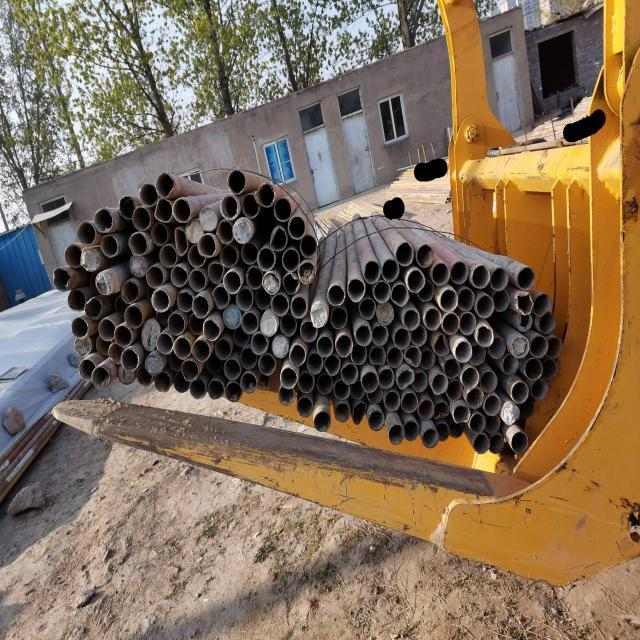pipe: (141, 318, 161, 352), (50, 268, 70, 296), (93, 207, 114, 232), (222, 268, 242, 294), (256, 182, 276, 208), (156, 172, 176, 198), (76, 220, 96, 245), (256, 246, 276, 271), (431, 262, 451, 287), (232, 217, 251, 243), (439, 286, 458, 312), (112, 325, 134, 347), (70, 318, 90, 342), (80, 247, 100, 271), (95, 272, 115, 296), (128, 232, 148, 256), (286, 215, 306, 239), (198, 208, 218, 232), (172, 198, 192, 222), (138, 182, 158, 206), (516, 266, 536, 290), (185, 219, 204, 244), (84, 296, 102, 322), (270, 226, 288, 252), (154, 198, 172, 224), (406, 267, 424, 293), (457, 286, 475, 312), (220, 195, 240, 218), (460, 367, 480, 390), (524, 358, 544, 381), (472, 264, 491, 288), (132, 206, 150, 231), (288, 343, 306, 368), (236, 286, 253, 312), (246, 264, 263, 290), (500, 403, 520, 425), (478, 370, 498, 392), (510, 336, 530, 358), (239, 347, 258, 370), (100, 235, 119, 258), (220, 245, 239, 268), (174, 336, 192, 360), (68, 288, 86, 312), (124, 305, 142, 329), (250, 330, 268, 354), (272, 335, 290, 359), (260, 314, 278, 338), (212, 286, 230, 310), (192, 294, 210, 318), (152, 288, 170, 312), (120, 280, 138, 304), (130, 254, 148, 278), (118, 196, 136, 220), (150, 222, 168, 246), (159, 244, 177, 268), (270, 293, 288, 317), (290, 295, 308, 319), (282, 272, 300, 296), (282, 248, 300, 272), (298, 261, 316, 285), (274, 198, 292, 222), (402, 418, 420, 442), (335, 334, 353, 358), (310, 304, 328, 328), (373, 280, 391, 304), (391, 283, 409, 307), (396, 242, 414, 266), (416, 244, 434, 268), (424, 308, 442, 332), (476, 323, 494, 347), (476, 294, 494, 318), (491, 266, 509, 290), (492, 289, 510, 313), (534, 293, 552, 317), (217, 219, 234, 244), (228, 168, 245, 193), (187, 270, 206, 292), (92, 366, 110, 389), (258, 353, 276, 376), (205, 353, 223, 376), (192, 339, 210, 362), (121, 348, 139, 371), (98, 318, 116, 341), (64, 245, 82, 268), (202, 318, 220, 341), (170, 265, 188, 288), (262, 272, 280, 295), (300, 235, 318, 258), (242, 193, 260, 216), (198, 234, 216, 257), (361, 370, 379, 393), (530, 334, 548, 357), (454, 341, 472, 364), (354, 324, 372, 347), (300, 320, 318, 343), (330, 307, 348, 330), (168, 313, 185, 337), (146, 265, 163, 289), (317, 372, 334, 396), (451, 261, 468, 285), (174, 226, 188, 255), (116, 364, 135, 385), (207, 378, 225, 400), (223, 358, 241, 380), (214, 338, 232, 360), (181, 360, 199, 382), (144, 354, 162, 376), (74, 336, 92, 358), (222, 306, 240, 328), (176, 291, 194, 313), (240, 242, 258, 264), (510, 432, 528, 454), (516, 398, 534, 420), (466, 387, 484, 409), (489, 336, 507, 358), (394, 328, 412, 350), (376, 303, 394, 325), (188, 245, 205, 268), (401, 391, 418, 414), (280, 366, 297, 389), (306, 352, 323, 375), (323, 354, 340, 377), (546, 336, 563, 359), (348, 279, 365, 302), (364, 261, 381, 284), (280, 314, 296, 338), (242, 310, 258, 334), (188, 378, 206, 399), (240, 372, 258, 393), (232, 327, 250, 348), (154, 371, 171, 393), (388, 423, 405, 445), (473, 433, 490, 455), (341, 363, 358, 385), (372, 324, 389, 346), (316, 336, 333, 358), (404, 308, 421, 330), (382, 258, 399, 280), (442, 312, 459, 334), (459, 313, 476, 335), (368, 409, 384, 432), (418, 398, 434, 421), (224, 382, 242, 402), (156, 334, 174, 354), (296, 398, 314, 418), (314, 412, 332, 432), (396, 368, 414, 388), (404, 348, 422, 368), (327, 284, 345, 304), (516, 294, 534, 314), (538, 314, 556, 334), (79, 359, 96, 380), (469, 413, 486, 434), (484, 395, 501, 416), (444, 358, 461, 379), (410, 324, 427, 345), (136, 366, 152, 388), (173, 372, 189, 394), (208, 262, 224, 284), (255, 288, 271, 310), (422, 427, 438, 449), (447, 380, 463, 402), (378, 367, 394, 389), (432, 373, 448, 395), (512, 382, 528, 404), (532, 378, 548, 400), (542, 358, 558, 380), (360, 298, 376, 320), (418, 280, 434, 302), (108, 342, 123, 365), (156, 306, 173, 326), (333, 380, 350, 400), (468, 346, 485, 366), (387, 348, 404, 368), (488, 433, 504, 454), (412, 372, 428, 393), (434, 334, 450, 355), (351, 343, 367, 364), (189, 312, 204, 334), (352, 402, 367, 424), (368, 346, 386, 364), (278, 387, 294, 407), (448, 420, 464, 440), (298, 372, 314, 392), (503, 354, 519, 374), (114, 296, 128, 318), (516, 313, 532, 332), (454, 404, 469, 424), (385, 392, 400, 412), (168, 351, 182, 372), (336, 402, 350, 423), (366, 386, 383, 403), (420, 351, 436, 369), (435, 422, 450, 440), (434, 402, 449, 420), (350, 380, 365, 398), (96, 336, 109, 356), (90, 274, 102, 294), (146, 286, 154, 300)
